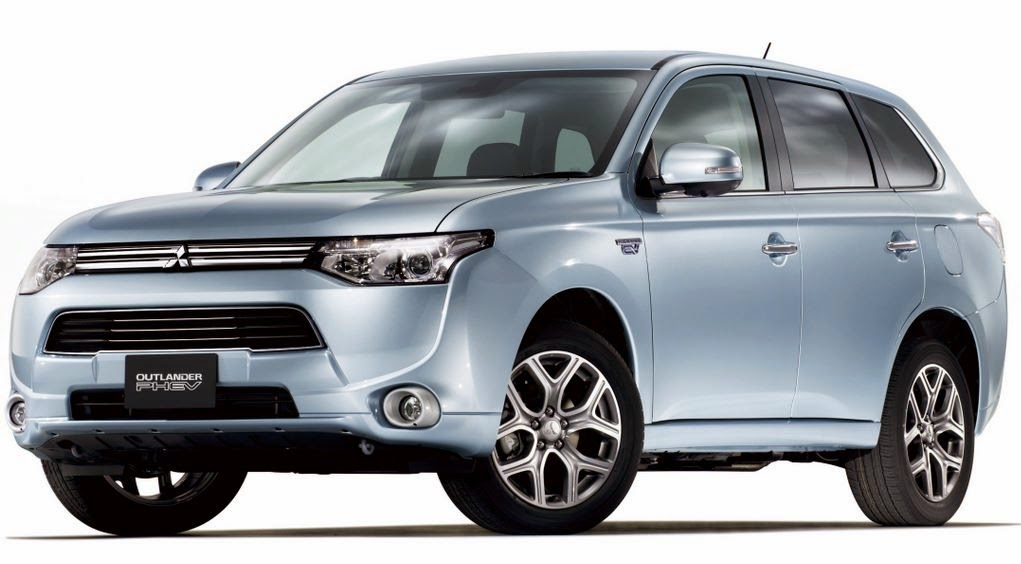van: (7, 44, 1008, 531)
